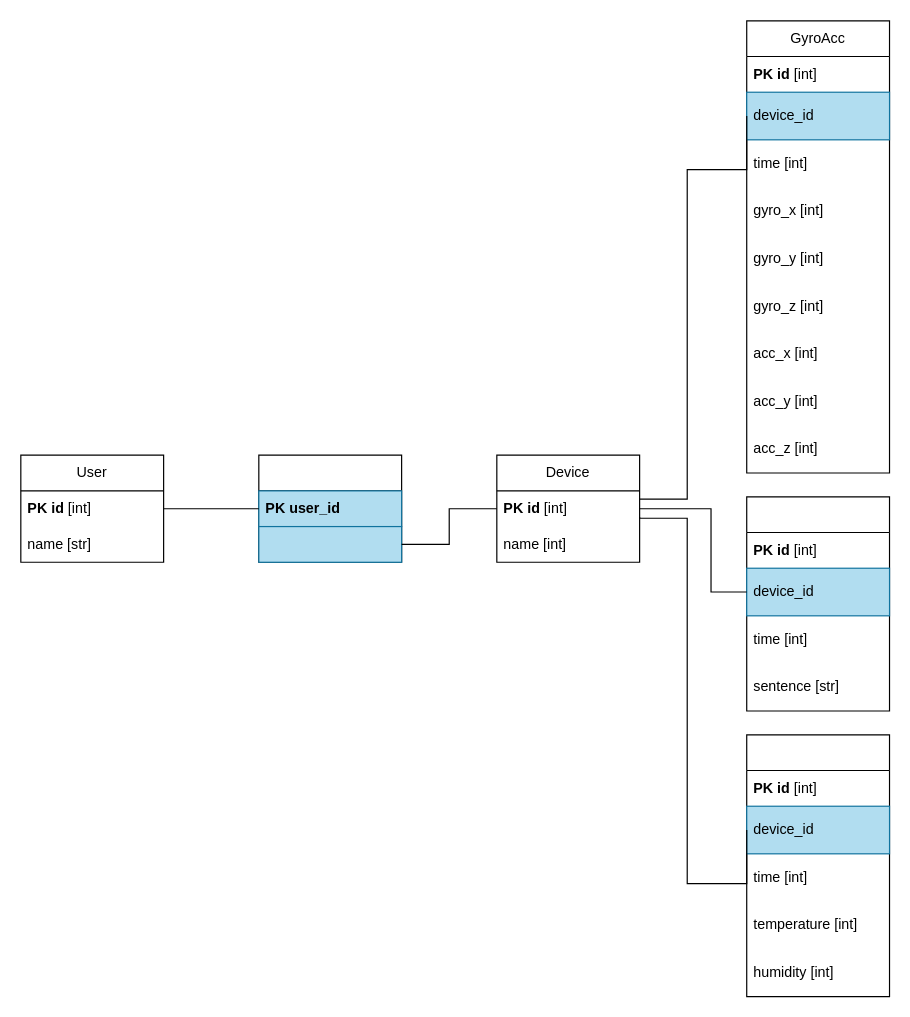
This 910x1017 diagram has some shape labels left out. The shapes that lost their labels are listed below. From the top down, each one's box as (x1, y1, x2, y2) in pixels, then its label:
(258, 454, 402, 562): UserDevice
(258, 525, 402, 562): PK device _id
(746, 496, 890, 711): GPS
(746, 734, 890, 997): TempHum
